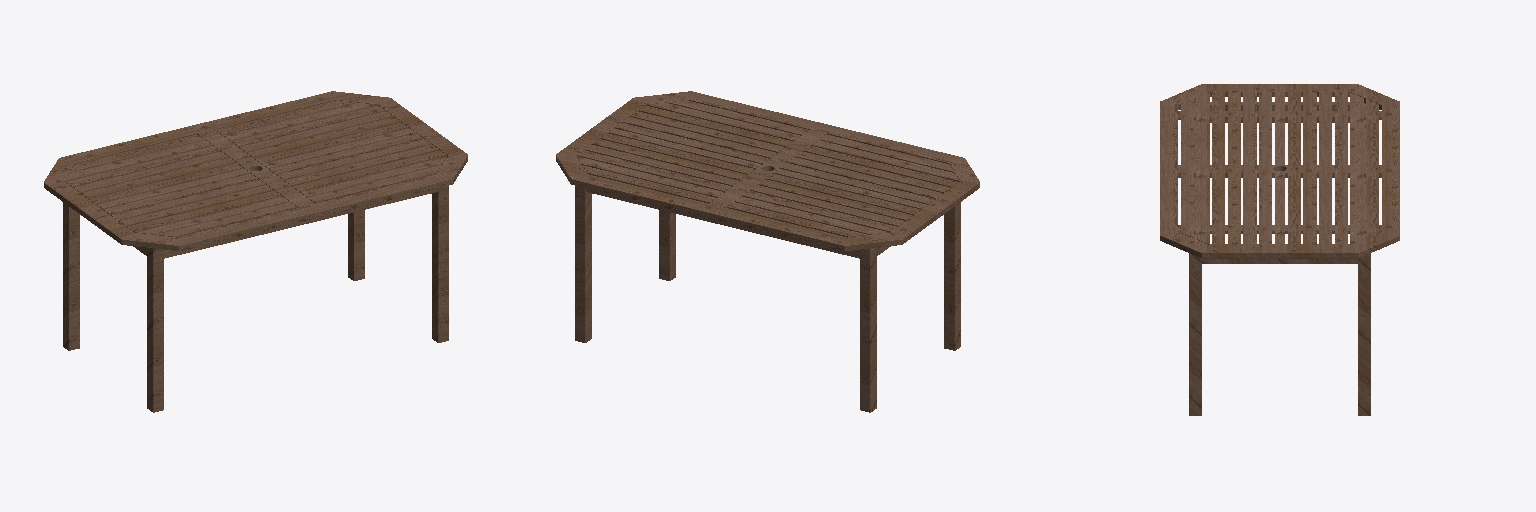
The picture shows the model from 3 angles: view 1: azimuth 30°, elevation 25°; view 2: azimuth 150°, elevation 25°; view 3: azimuth 270°, elevation 25°; orthographic projection.
Parts seen in each view (by area): view 1: default_1_2; view 2: default_1_2; view 3: default_1_2.
Boxes of the visible parts, x1=… form: default_1_2: x1=44, y1=91, x2=467, y2=412; default_1_2: x1=556, y1=91, x2=979, y2=412; default_1_2: x1=1160, y1=84, x2=1399, y2=415.
Size of the model in its own units: 150 by 72.3 by 90.
Materials: 1 (1 with a texture image).